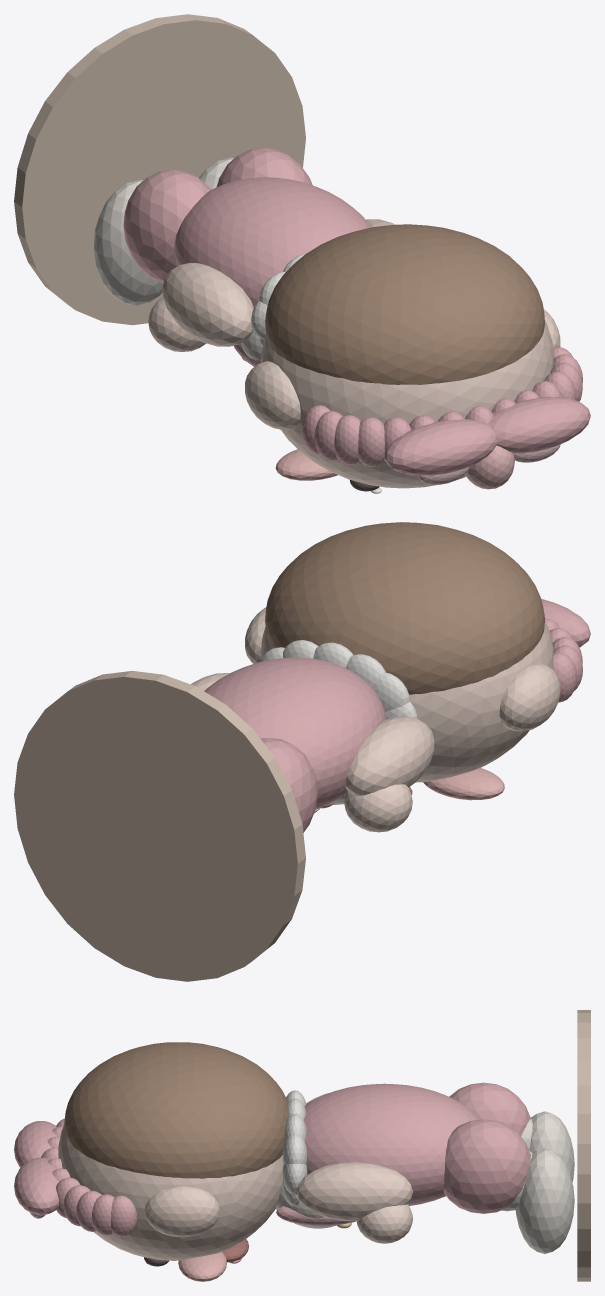
File: PLAYFORM_STAR_QBABY_CHARACTER_MAQUETTE_V3.glb
The picture shows the model from 3 angles, top to bottom: view 1: azimuth 30°, elevation 25°; view 2: azimuth 150°, elevation 25°; view 3: azimuth 270°, elevation 25°; orthographic projection. The views are drawn at different scales.
Parts seen in each view (by area): view 1: turntable-plinth, brown-hair-cap, soft-pink-overall-body, head, leg-0, arm-0, bow-wing-0, bow-wing-1, shoe-0, ear-0, leg-1, hand-0 (+6 smaller); view 2: turntable-plinth, brown-hair-cap, soft-pink-overall-body, head, arm-0, ear-0, hand-0, leg-0, cheek-0, bow-wing-0, lace-scallop-5, pink-headband-14 (+3 smaller); view 3: brown-hair-cap, soft-pink-overall-body, head, leg-1, arm-1, shoe-1, turntable-plinth, ear-1, leg-0, bow-wing-1, hand-1, shoe-0 (+13 smaller).
Part boxes in pixels (bbox=[...]): turntable-plinth: bbox=[14, 14, 305, 325]; brown-hair-cap: bbox=[265, 224, 544, 384]; soft-pink-overall-body: bbox=[174, 177, 371, 307]; head: bbox=[261, 320, 553, 488]; leg-0: bbox=[123, 170, 211, 283]; arm-0: bbox=[162, 262, 253, 346]; bow-wing-0: bbox=[384, 419, 496, 475]; bow-wing-1: bbox=[488, 397, 590, 453]; shoe-0: bbox=[94, 179, 163, 305]; ear-0: bbox=[245, 361, 300, 429]; leg-1: bbox=[216, 147, 312, 187]; hand-0: bbox=[148, 297, 205, 351]; turntable-plinth: bbox=[14, 671, 305, 981]; brown-hair-cap: bbox=[265, 522, 544, 694]; soft-pink-overall-body: bbox=[204, 657, 386, 809]; head: bbox=[260, 620, 553, 782]; arm-0: bbox=[345, 716, 434, 795]; ear-0: bbox=[499, 663, 560, 731]; hand-0: bbox=[344, 784, 412, 832]; leg-0: bbox=[261, 737, 317, 832]; cheek-0: bbox=[423, 768, 504, 800]; bow-wing-0: bbox=[541, 599, 590, 647]; lace-scallop-5: bbox=[372, 672, 409, 711]; pink-headband-14: bbox=[552, 652, 576, 702]; brown-hair-cap: bbox=[64, 1042, 288, 1178]; soft-pink-overall-body: bbox=[303, 1083, 479, 1205]; head: bbox=[58, 1125, 283, 1260]; leg-1: bbox=[443, 1119, 530, 1213]; arm-1: bbox=[296, 1162, 412, 1221]; shoe-1: bbox=[515, 1148, 574, 1253]; turntable-plinth: bbox=[577, 1010, 590, 1281]; ear-1: bbox=[144, 1186, 220, 1237]; leg-0: bbox=[449, 1082, 530, 1136]; bow-wing-1: bbox=[14, 1157, 58, 1214]; hand-1: bbox=[356, 1204, 412, 1243]; shoe-0: bbox=[529, 1111, 574, 1182].
Size of the model in its own units: 2.1 by 2 by 4.25.
